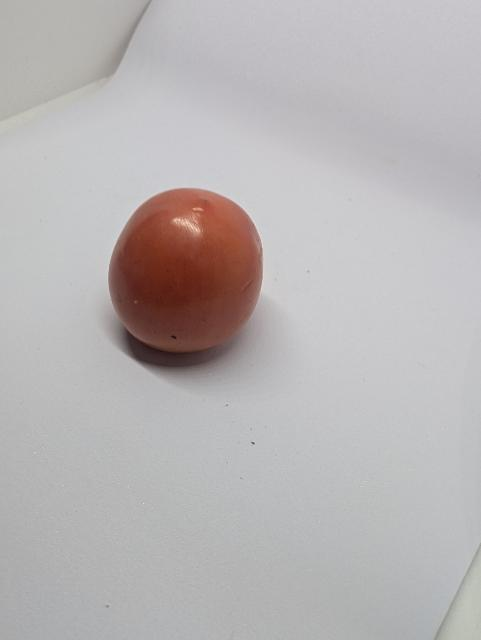red: (96, 179, 282, 366)
